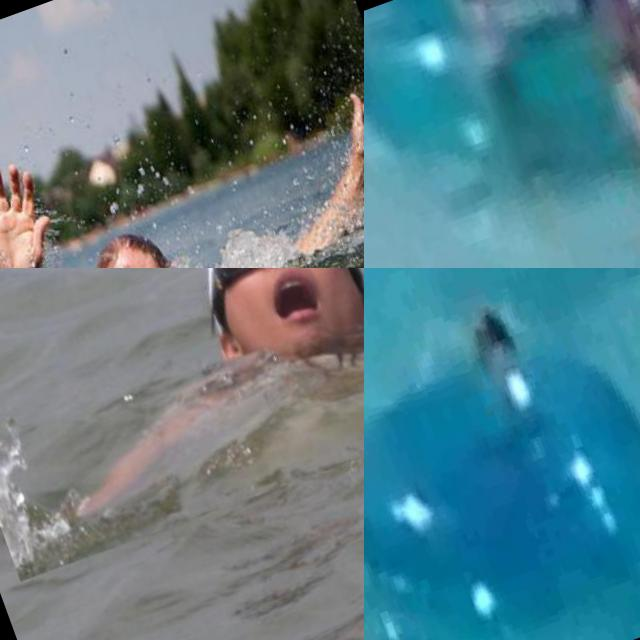drowning: (0, 268, 364, 583), (0, 15, 364, 268), (400, 268, 548, 395)
swimming: (566, 0, 640, 268), (431, 0, 546, 71)
